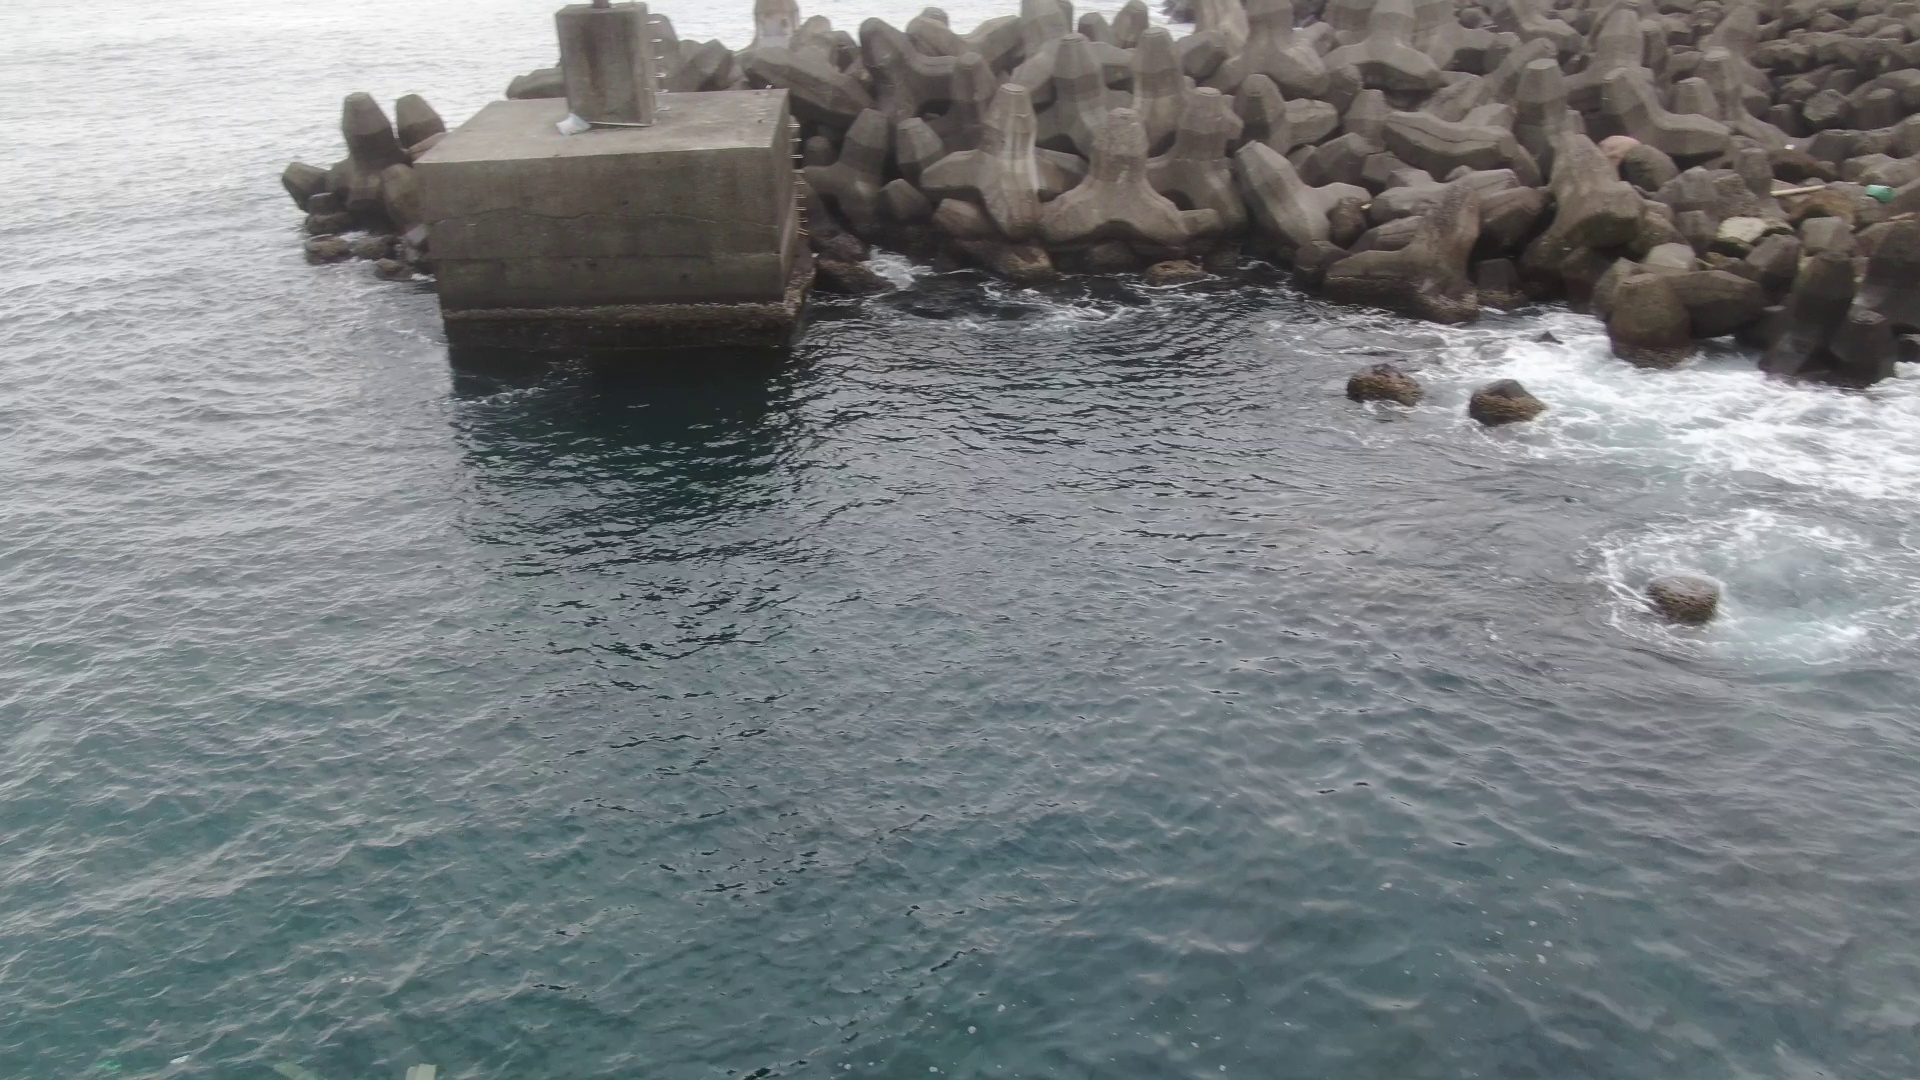garbage: (556, 112, 592, 136), (1867, 181, 1899, 207)
